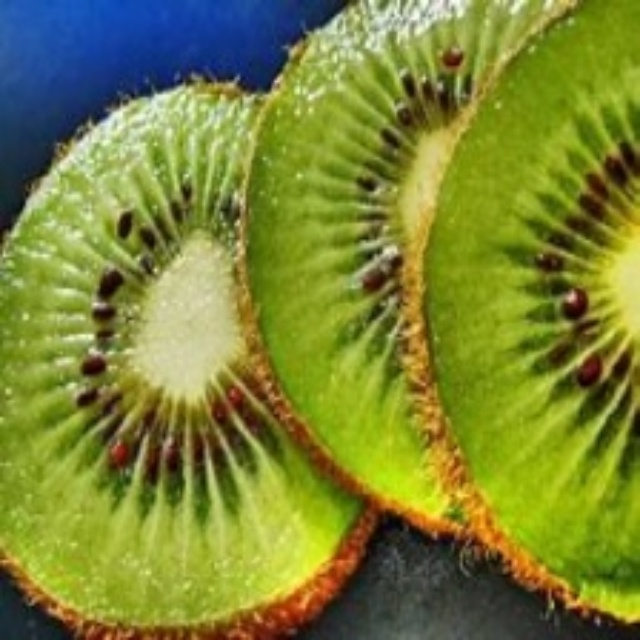kiwi: (237, 4, 639, 622), (3, 82, 363, 635)
